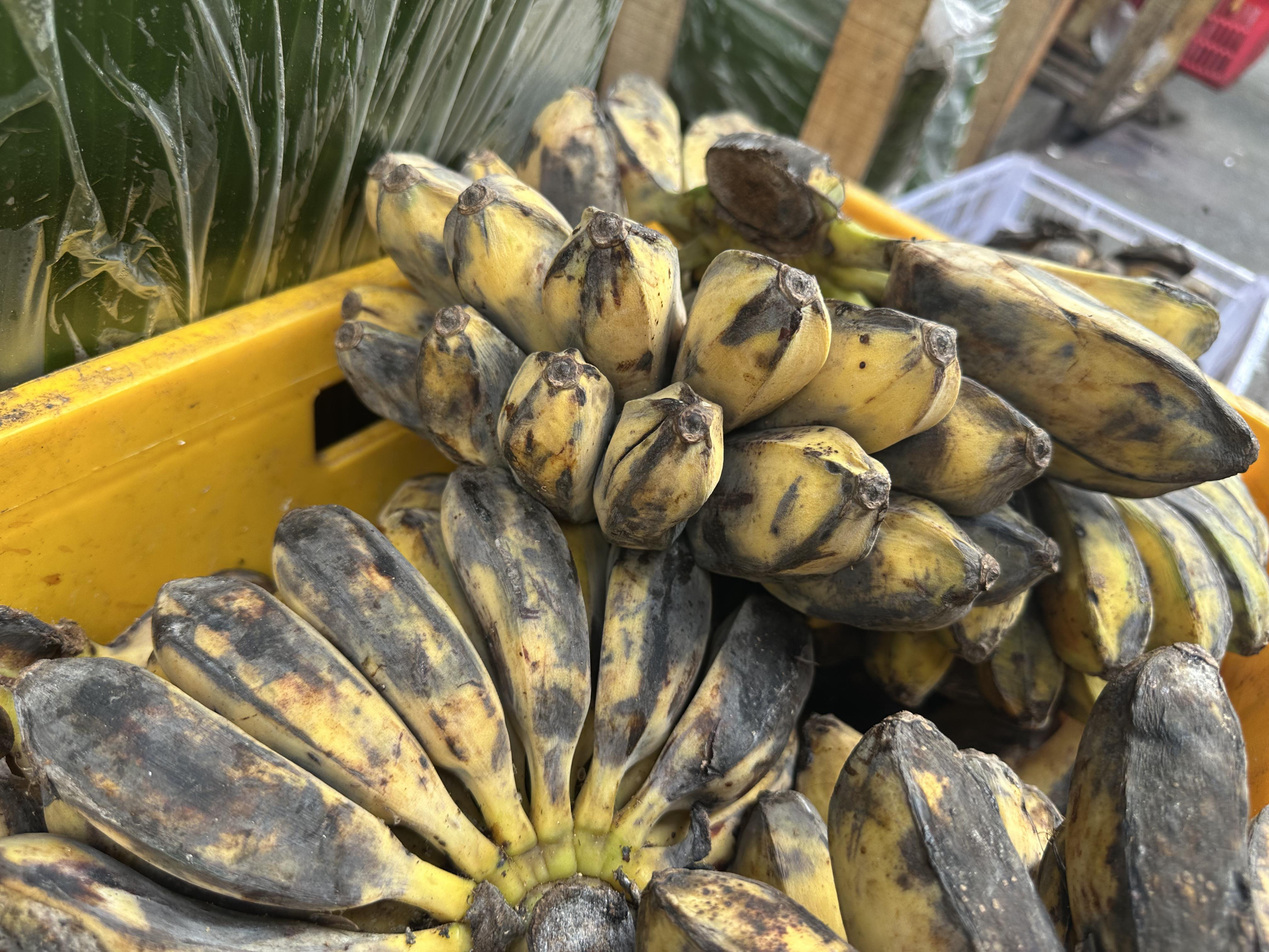overripe: (0, 463, 813, 952), (637, 643, 1269, 952)
ripe: (335, 153, 1060, 630), (866, 476, 1269, 731)
